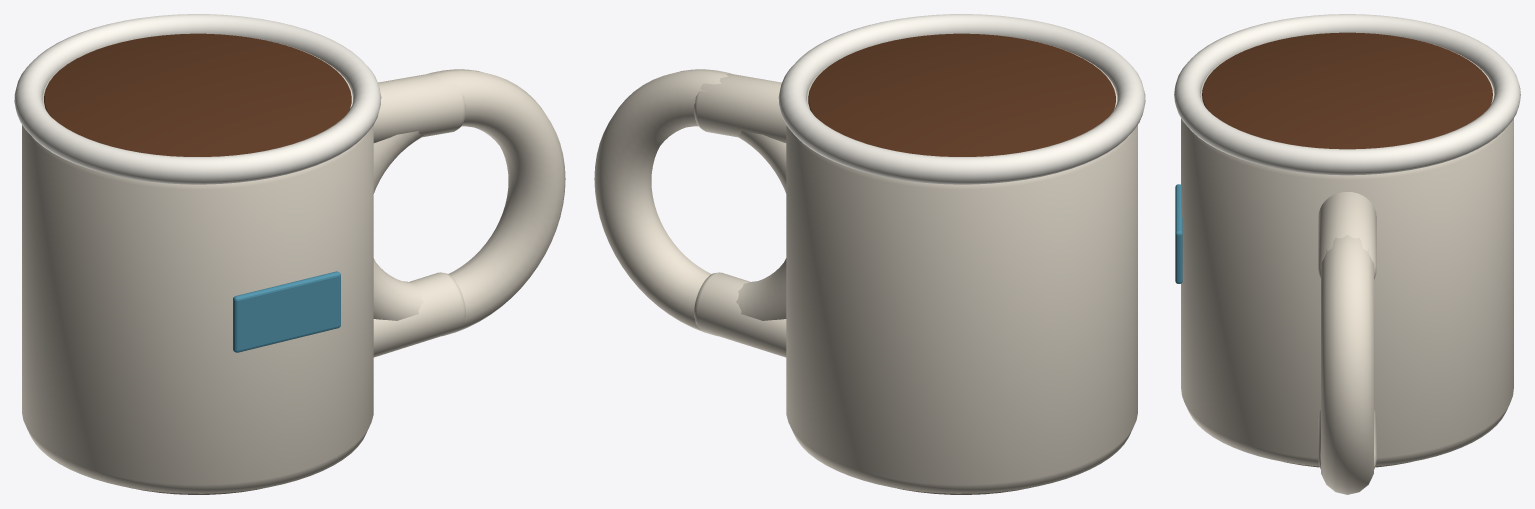
File: everyday_mug.glb
3 renders of one model, left to right at view 1: azimuth 30°, elevation 25°; view 2: azimuth 150°, elevation 25°; view 3: azimuth 270°, elevation 25°, orthographic. The views are drawn at different scales.
Parts seen in each view (by area): view 1: Mug_CeramicBody, Mug_CoffeeSurface, Mug_Rim, Mug_HandleLoop, Mug_StudioBadge, Mug_HandleUpperBridge, Mug_HandleLowerBridge; view 2: Mug_CeramicBody, Mug_CoffeeSurface, Mug_Rim, Mug_HandleLoop, Mug_HandleUpperBridge, Mug_HandleLowerBridge; view 3: Mug_CeramicBody, Mug_CoffeeSurface, Mug_Rim, Mug_HandleLoop, Mug_HandleUpperBridge, Mug_StudioBadge.
Boxes of the visible parts, x1,y1,x2,y2 form: Mug_CeramicBody: (22,33,373,493); Mug_CoffeeSurface: (44,33,351,156); Mug_Rim: (14,14,381,184); Mug_HandleLoop: (373,69,565,336); Mug_StudioBadge: (233,271,340,352); Mug_HandleUpperBridge: (373,73,465,142); Mug_HandleLowerBridge: (373,272,465,357); Mug_CeramicBody: (786,33,1137,493); Mug_CoffeeSurface: (808,33,1115,156); Mug_Rim: (778,14,1145,184); Mug_HandleLoop: (594,69,786,336); Mug_HandleUpperBridge: (694,73,786,142); Mug_HandleLowerBridge: (694,272,786,357); Mug_CeramicBody: (1181,32,1513,466); Mug_CoffeeSurface: (1202,32,1492,149); Mug_Rim: (1174,14,1520,175); Mug_HandleLoop: (1321,235,1373,494); Mug_HandleUpperBridge: (1318,192,1376,279); Mug_StudioBadge: (1175,184,1182,283).
Size of the model in its own units: 0.1372 by 0.0871 by 0.0834.
